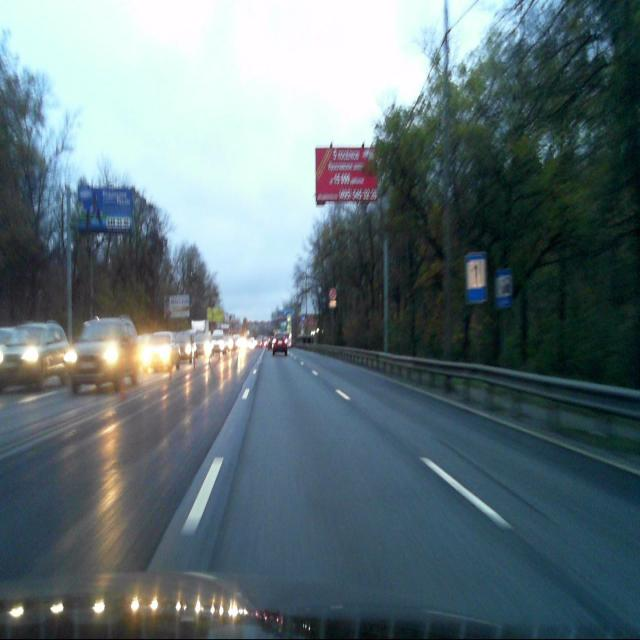road sign: (465, 252, 487, 303), (494, 269, 512, 308)
